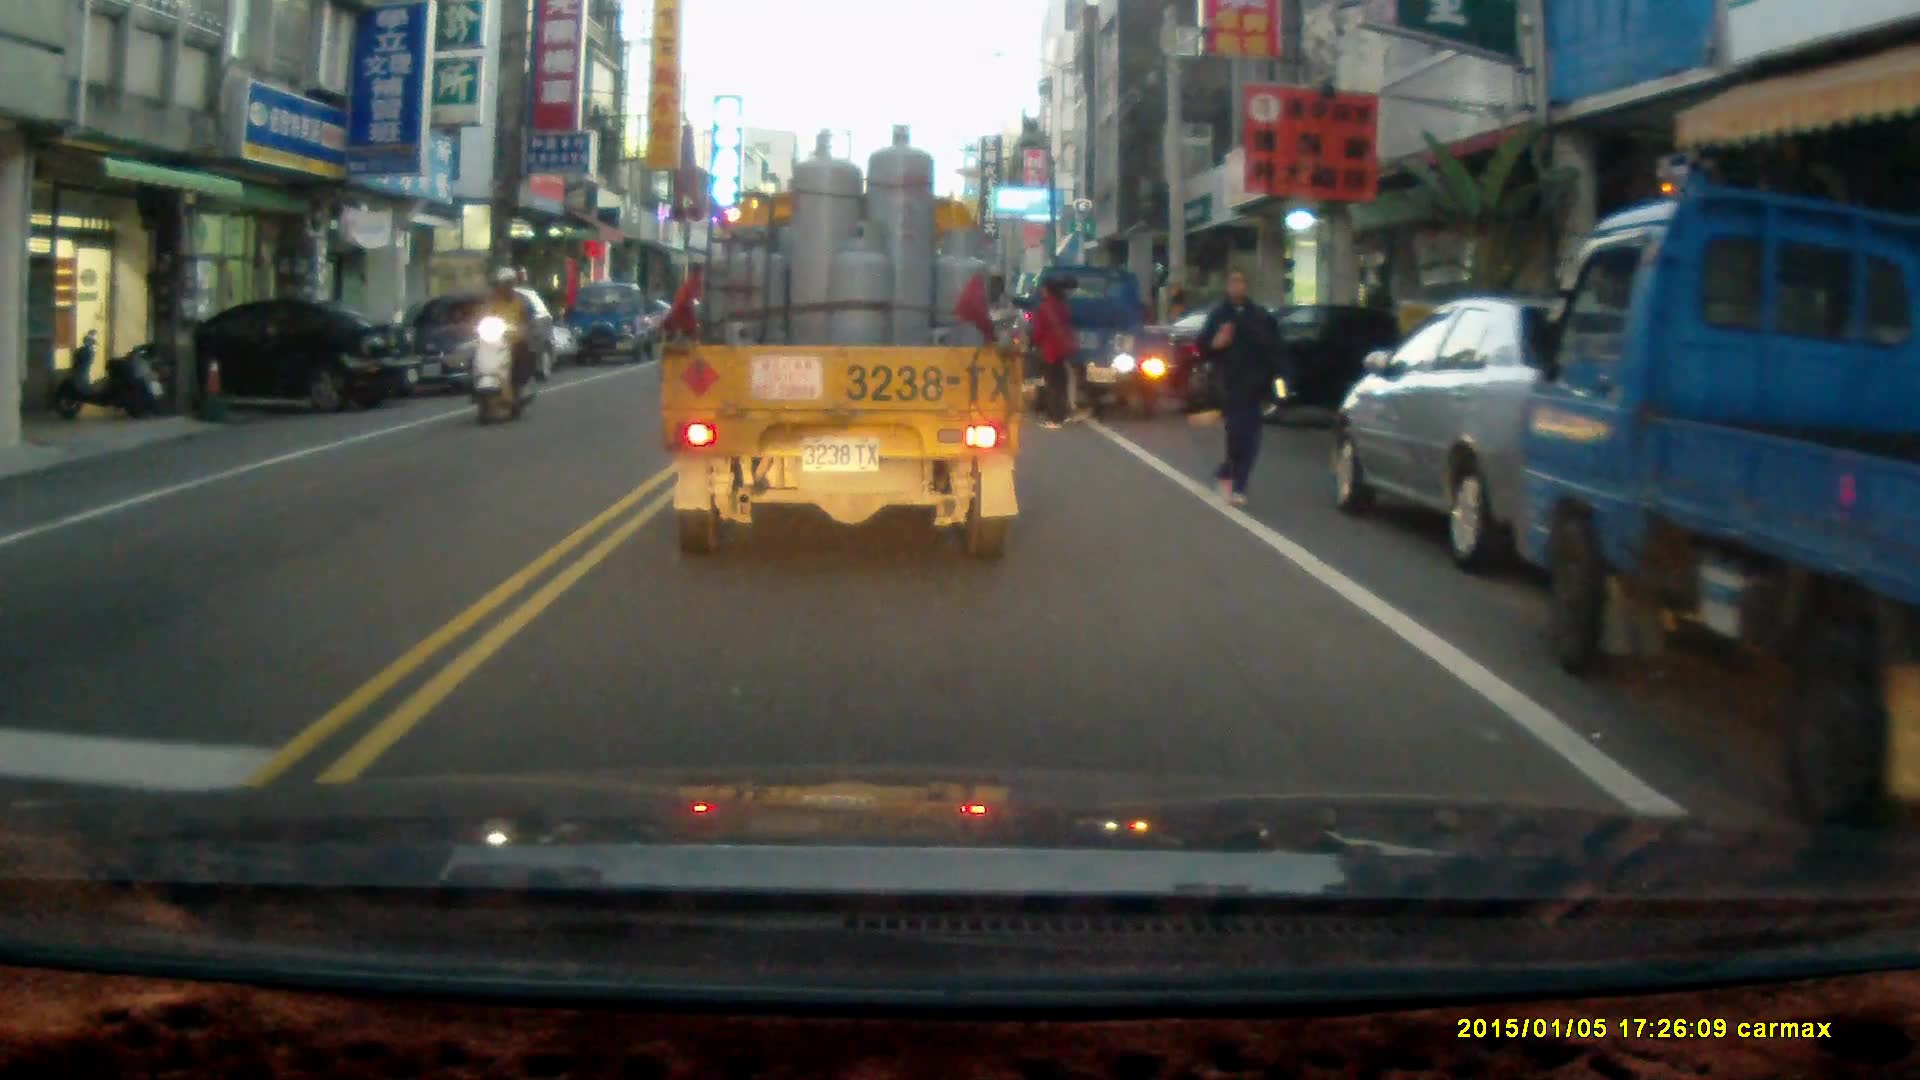pedestrian: (1193, 264, 1293, 511), (1025, 275, 1076, 424)
rider: (468, 265, 540, 427)
vehicle: (1520, 177, 1920, 813), (663, 124, 1027, 568), (1331, 293, 1689, 576), (1167, 297, 1467, 438), (101, 295, 415, 414), (1014, 261, 1175, 417), (405, 288, 558, 396), (569, 279, 667, 367)
